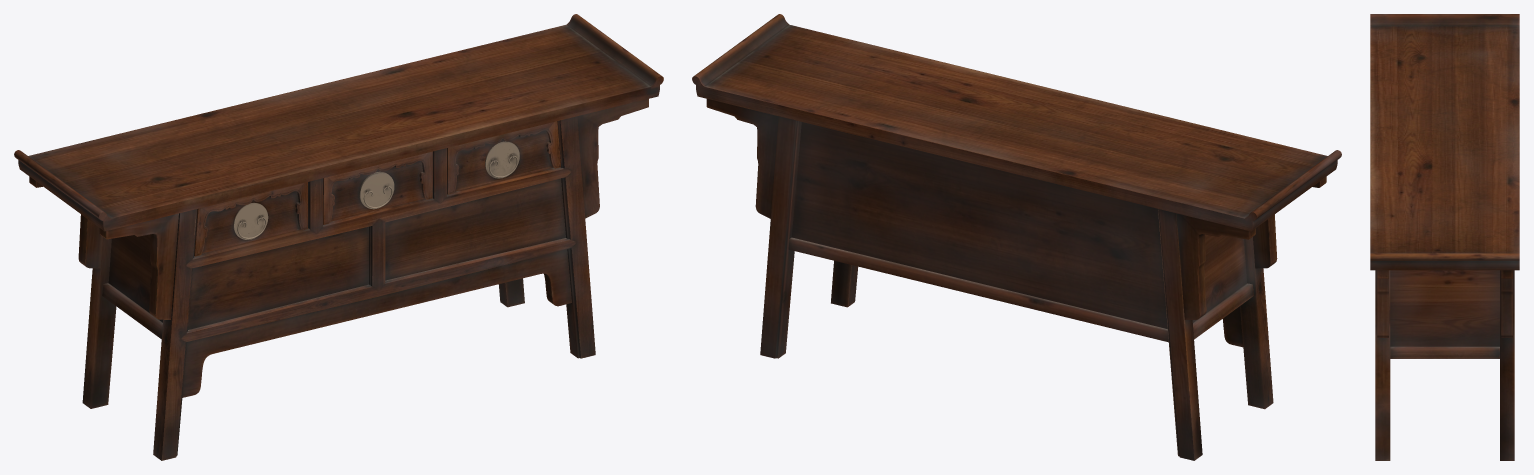
Rendered from chinese_commode.glb.
The picture shows the model from 3 angles, left to right: view 1: azimuth 30°, elevation 25°; view 2: azimuth 150°, elevation 25°; view 3: azimuth 270°, elevation 25°; orthographic projection. The views are drawn at different scales.
Parts seen in each view (by area): view 1: chinese_commode; view 2: chinese_commode; view 3: chinese_commode.
Part boxes in pixels (x1=…): chinese_commode: x1=14, y1=14, x2=663, y2=460; chinese_commode: x1=692, y1=14, x2=1341, y2=460; chinese_commode: x1=1370, y1=14, x2=1519, y2=460.
Size of the model in its own units: 4.49 by 2.02 by 1.17.
Materials: 1 (1 with a texture image).
